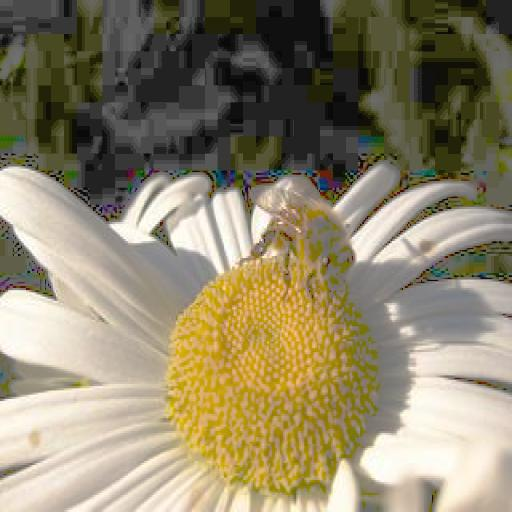daisy: (1, 164, 512, 511)
